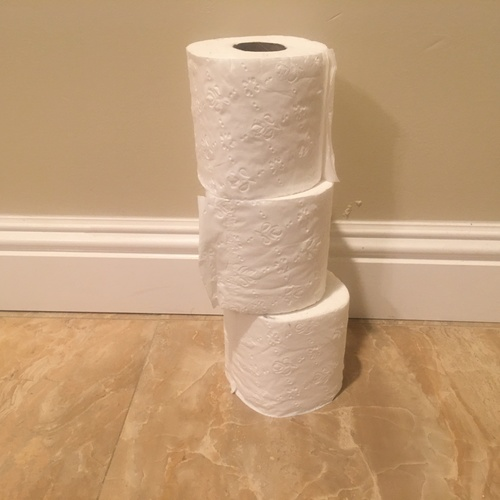roll: (183, 33, 335, 195), (219, 267, 353, 418), (199, 178, 337, 320)
